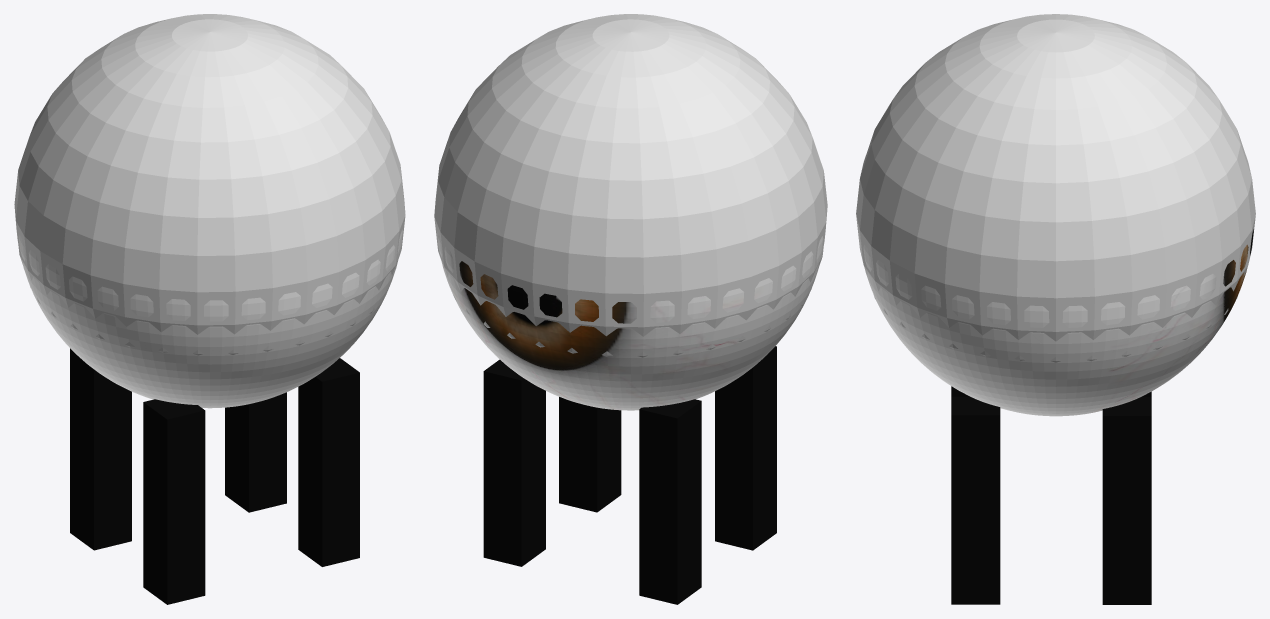
File: eye.gltf
3 views of the same model, side by side, from view 1: azimuth 30°, elevation 25°; view 2: azimuth 150°, elevation 25°; view 3: azimuth 270°, elevation 25° (orthographic). The views are drawn at different scales.
Visible parts, largest first — view 1: BVH_RAY, eye_holder, eye; view 2: BVH_RAY, eye_holder, eye; view 3: BVH_RAY, eye, eye_holder.
Part boxes in pixels (<box>): BVH_RAY: <box>14,14,405,355</box>; eye_holder: <box>70,348,359,604</box>; eye: <box>16,225,402,408</box>; BVH_RAY: <box>434,14,827,357</box>; eye_holder: <box>483,346,776,604</box>; eye: <box>437,227,825,410</box>; BVH_RAY: <box>856,14,1255,362</box>; eye: <box>858,229,1253,416</box>; eye_holder: <box>951,386,1151,604</box>.
Bounding box in the file's own units: 8.28 × 11.94 × 8.28.
2 materials, 2 textured.
